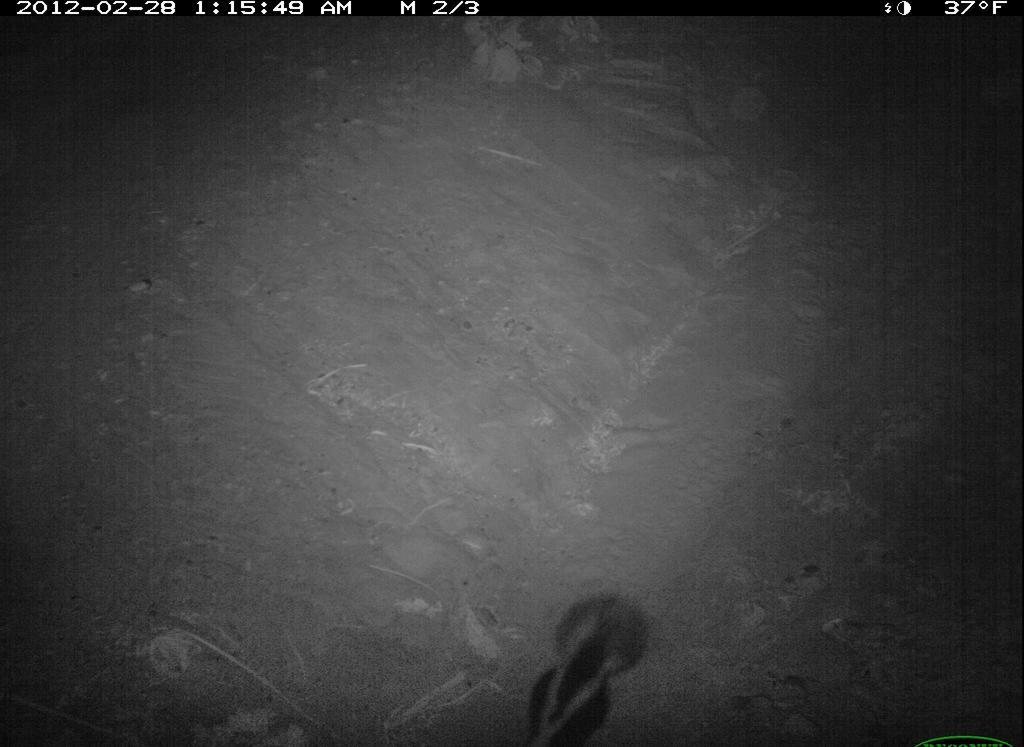skunk: (521, 589, 662, 740)
